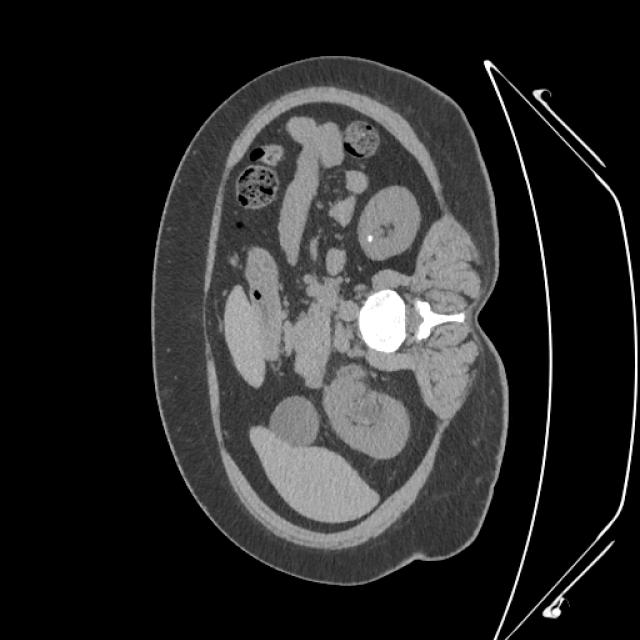kidneystone: (368, 232, 374, 241)
